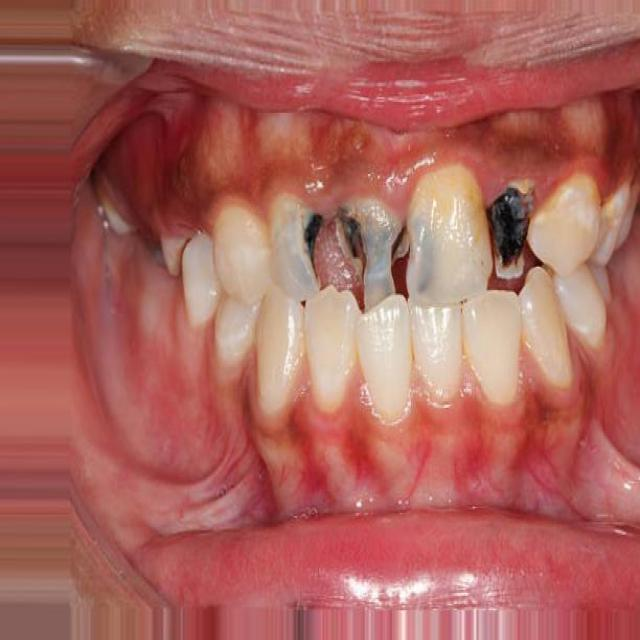caries: (335, 190, 417, 310), (484, 170, 537, 290), (277, 190, 336, 292)
